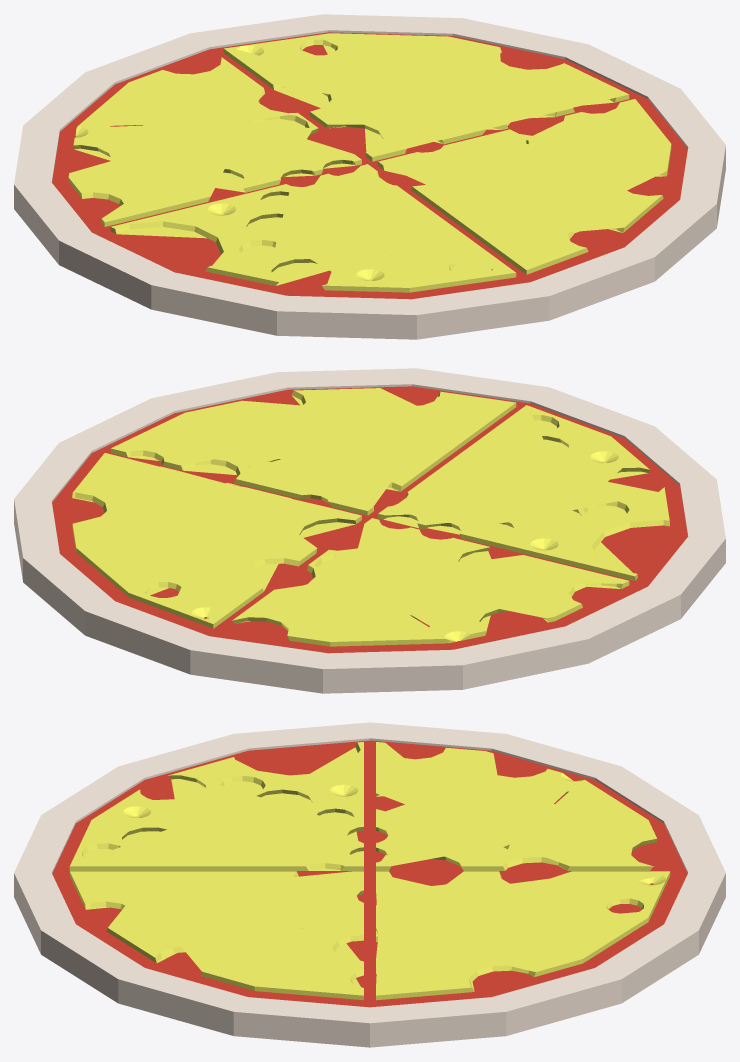
Rendered from Pizza.fbx.
3 views of the same model, one above another, from view 1: azimuth 30°, elevation 25°; view 2: azimuth 150°, elevation 25°; view 3: azimuth 270°, elevation 25° (orthographic).
Visible parts, largest first — view 1: CheesePizza, PizzaBase, TomatoPizza; view 2: CheesePizza, PizzaBase, TomatoPizza; view 3: CheesePizza, PizzaBase, TomatoPizza.
Boxes of the visible parts, x1,y1,x2,y2 form: CheesePizza: (68, 33, 671, 292); PizzaBase: (14, 14, 725, 339); TomatoPizza: (52, 32, 687, 299); CheesePizza: (72, 388, 669, 646); PizzaBase: (14, 368, 725, 693); TomatoPizza: (52, 386, 687, 653); CheesePizza: (69, 742, 670, 1000); PizzaBase: (14, 722, 725, 1047); TomatoPizza: (52, 740, 687, 1007).
Size of the model in its own units: 70 by 70 by 3.08.
